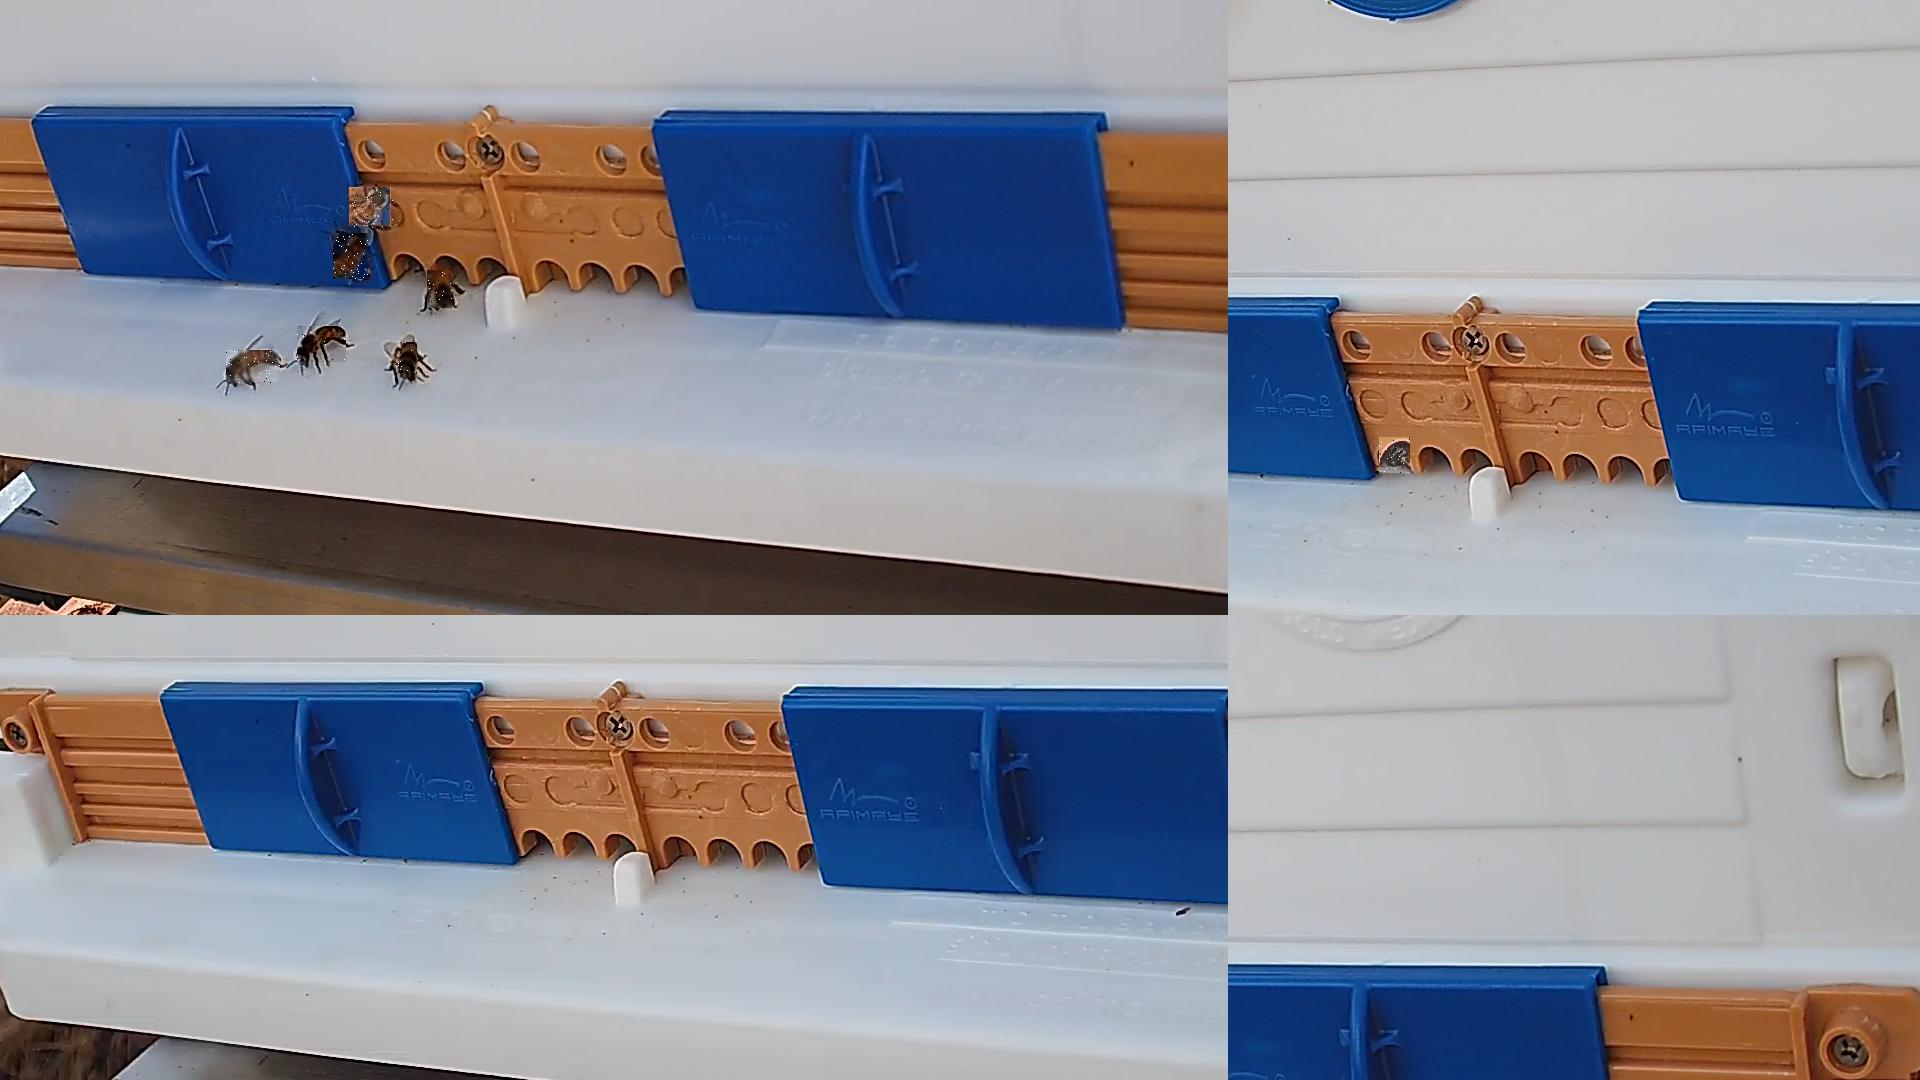bee: (349, 187, 396, 229), (297, 327, 347, 365), (227, 351, 282, 385), (334, 233, 371, 280), (1379, 438, 1411, 477), (427, 270, 454, 309), (396, 343, 418, 378)
